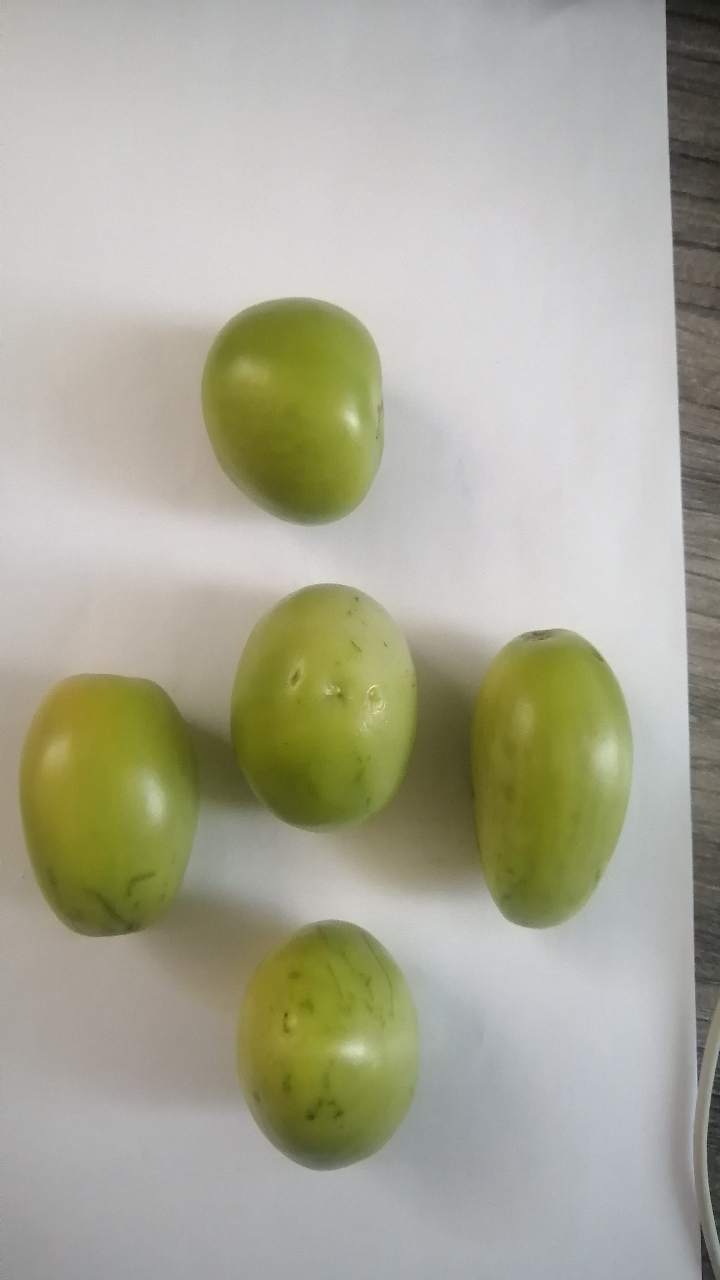tomateVerde: (221, 899, 444, 1203), (8, 645, 217, 965), (458, 594, 643, 954), (218, 546, 431, 857), (174, 277, 408, 539)
